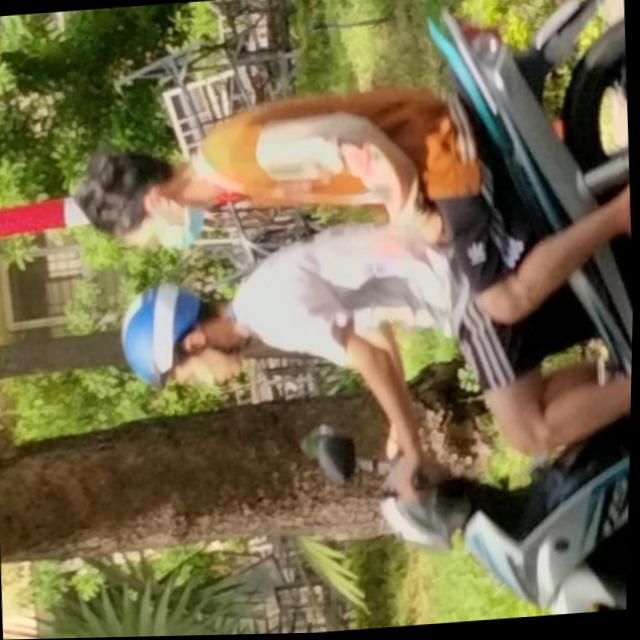WITH_HELMET: (116, 282, 212, 393)
